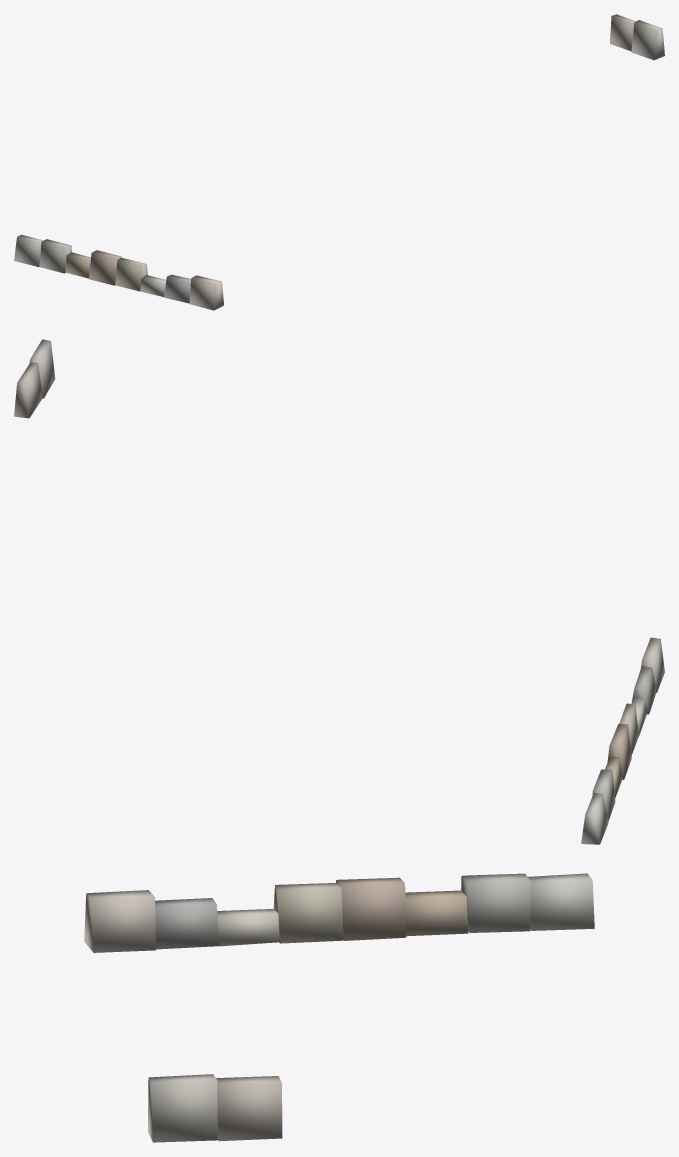
Rendered from farm_-20_-30_far.glb.
The picture shows the model from 3 angles, top to bottom: view 1: azimuth 30°, elevation 25°; view 2: azimuth 150°, elevation 25°; view 3: azimuth 270°, elevation 25°; orthographic projection. The views are drawn at different scales.
Visible parts, largest first — view 1: geometry_0; view 2: geometry_0; view 3: geometry_0.
Boxes of the visible parts, <box> form: geometry_0: <box>14,14,664,310</box>; geometry_0: <box>14,339,664,844</box>; geometry_0: <box>84,873,594,1142</box>.
Bounding box in the file's own units: 29.94 × 9.52 × 12.19.
